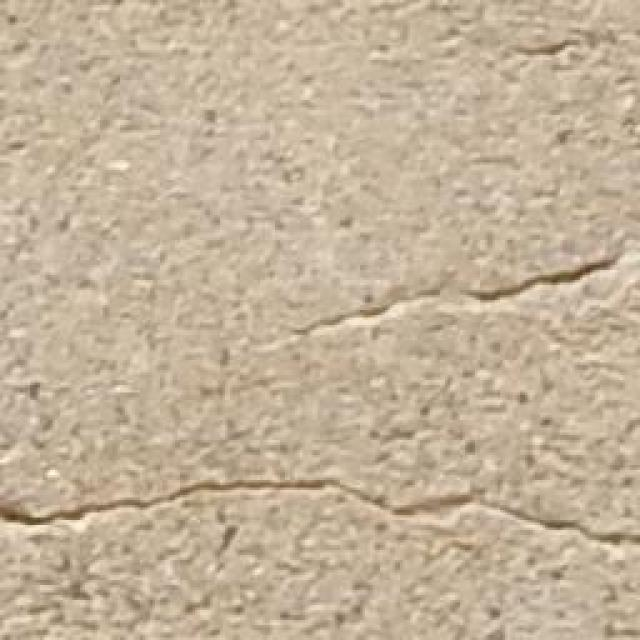concrete-crack: (0, 480, 640, 545), (295, 255, 620, 335)
